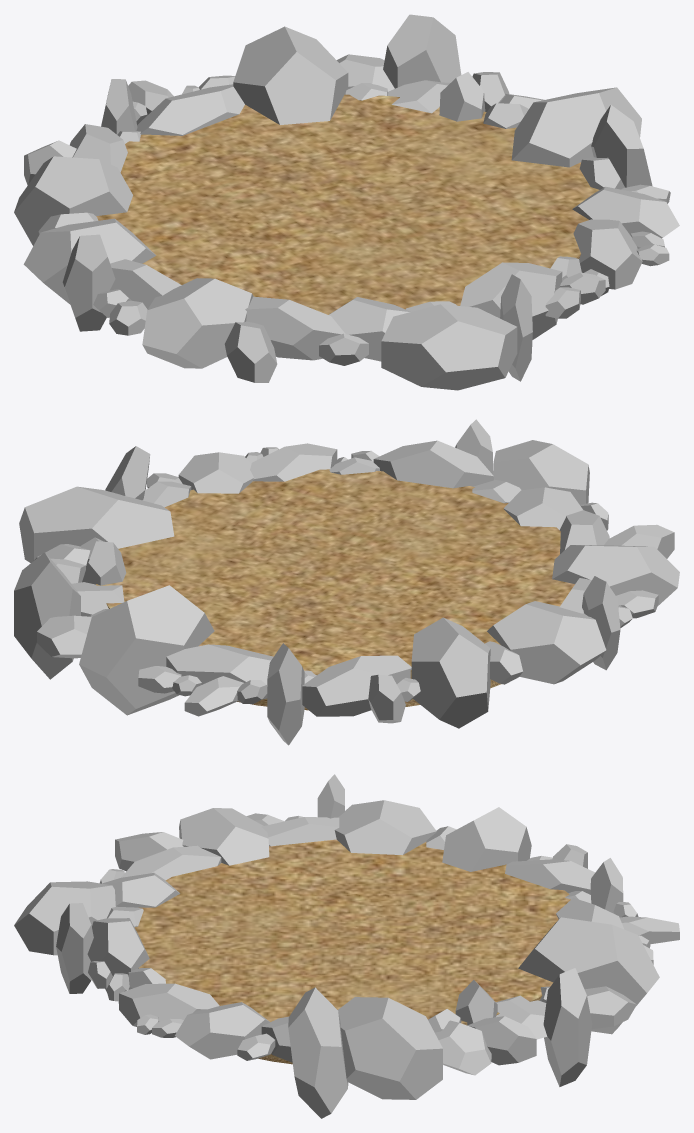
The model's file is LastStage.fbx.
The picture shows the model from 3 angles, top to bottom: view 1: azimuth 30°, elevation 25°; view 2: azimuth 150°, elevation 25°; view 3: azimuth 270°, elevation 25°; orthographic projection. The views are drawn at different scales.
Visible parts, largest first — view 1: group27_pasted__group6_pasted__pasted__group5_pasted__pasted; view 2: group27_pasted__group6_pasted__pasted__group5_pasted__pasted; view 3: group27_pasted__group6_pasted__pasted__group5_pasted__pasted.
Part boxes in pixels (box(x1,y1,x2,y2)): group27_pasted__group6_pasted__pasted__group5_pasted__pasted: box(14, 14, 679, 390); group27_pasted__group6_pasted__pasted__group5_pasted__pasted: box(14, 419, 679, 745); group27_pasted__group6_pasted__pasted__group5_pasted__pasted: box(14, 774, 679, 1118).
Bounding box in the file's own units: 31.31 × 6.62 × 33.1.
